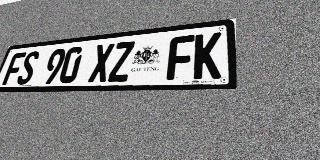0: (58, 46, 84, 84)
9: (41, 48, 67, 84)
F: (166, 35, 195, 80), (2, 52, 27, 85)
K: (193, 32, 222, 79)
S: (15, 51, 41, 85)
X: (88, 43, 115, 83)
Z: (108, 41, 135, 82)
